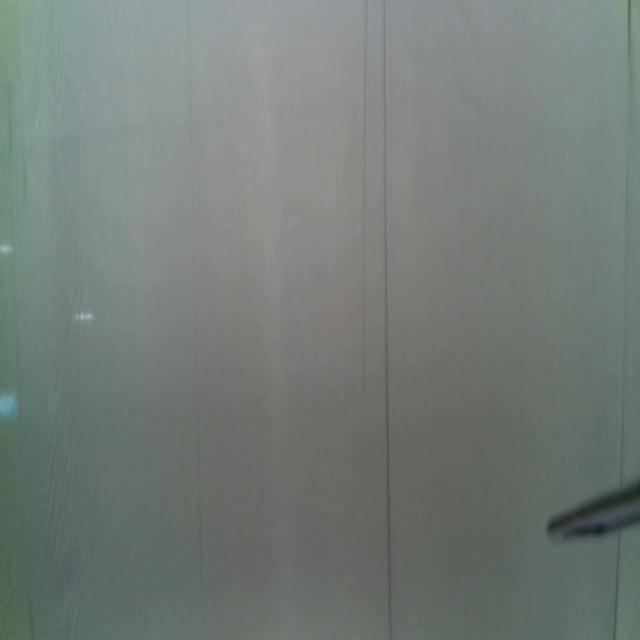crease: (186, 0, 204, 616), (382, 1, 393, 640), (618, 0, 632, 473), (6, 86, 23, 448), (361, 0, 369, 389), (612, 534, 621, 638)
